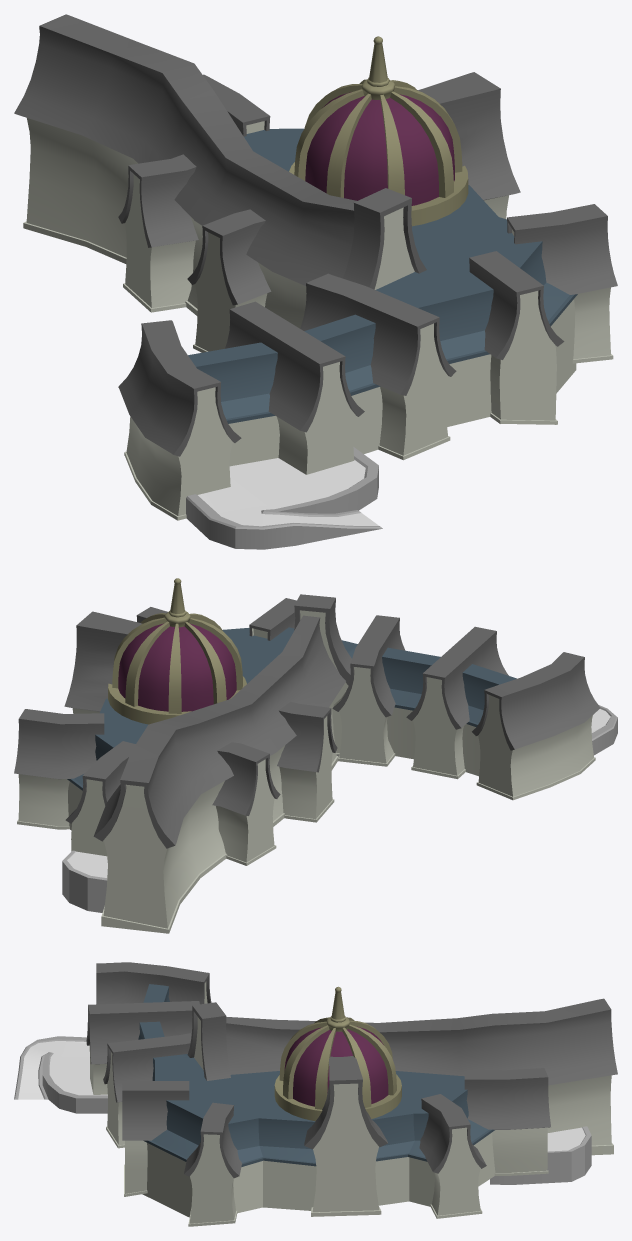
Rendered from p-bld-disco.glb.
3 renders of one model, top to bottom at view 1: azimuth 30°, elevation 25°; view 2: azimuth 150°, elevation 25°; view 3: azimuth 270°, elevation 25°, orthographic. The views are drawn at different scales.
Visible parts, largest first — view 1: A Frame-col.008, GLUE-col.005, Sphere-col, A Frame-col.014, balconyL-col, A Frame-col.012, A Frame-col.013, A Frame-col.003, A Frame-col.010, A Frame-col, A Frame-col.009, A Frame-col.002 (+2 smaller); view 2: A Frame-col.008, A Frame-col.014, Sphere-col, GLUE-col.005, A Frame-col.001, A Frame-col.013, A Frame-col.012, A Frame-col.010, A Frame-col.009, A Frame-col.002, A Frame-col.005, A Frame-col.004 (+3 smaller); view 3: GLUE-col.005, A Frame-col.008, Sphere-col, A Frame-col.002, A Frame-col.005, A Frame-col.001, balconyL-col, A Frame-col, A Frame-col.013, A Frame-col.003, A Frame-col.014, A Frame-col.012 (+2 smaller).
Part boxes in pixels (bbox=[...]): A Frame-col.008: bbox=[14, 14, 356, 328]; GLUE-col.005: bbox=[188, 128, 577, 466]; Sphere-col: bbox=[289, 36, 468, 226]; A Frame-col.014: bbox=[118, 320, 241, 520]; balconyL-col: bbox=[186, 447, 382, 549]; A Frame-col.012: bbox=[300, 273, 456, 460]; A Frame-col.013: bbox=[225, 301, 364, 474]; A Frame-col.003: bbox=[469, 251, 564, 424]; A Frame-col.010: bbox=[118, 154, 198, 312]; A Frame-col: bbox=[507, 204, 617, 363]; A Frame-col.009: bbox=[187, 209, 271, 352]; A Frame-col.002: bbox=[418, 72, 520, 218]; A Frame-col.008: bbox=[93, 615, 345, 933]; A Frame-col.014: bbox=[472, 652, 600, 800]; Sphere-col: bbox=[108, 578, 246, 724]; GLUE-col.005: bbox=[67, 627, 516, 830]; A Frame-col.001: bbox=[14, 709, 104, 829]; A Frame-col.013: bbox=[406, 626, 508, 779]; A Frame-col.012: bbox=[332, 615, 405, 766]; A Frame-col.010: bbox=[212, 742, 280, 865]; A Frame-col.009: bbox=[277, 701, 337, 822]; A Frame-col.002: bbox=[64, 611, 142, 713]; A Frame-col.005: bbox=[65, 741, 135, 856]; A Frame-col.004: bbox=[294, 594, 351, 755]; GLUE-col.005: bbox=[138, 984, 495, 1217]; A Frame-col.008: bbox=[226, 998, 617, 1155]; Sphere-col: bbox=[274, 986, 401, 1121]; A Frame-col.002: bbox=[304, 1056, 387, 1216]; A Frame-col.005: bbox=[464, 1068, 550, 1175]; A Frame-col.001: bbox=[419, 1094, 486, 1218]; balconyL-col: bbox=[14, 1036, 107, 1113]; A Frame-col: bbox=[184, 1102, 242, 1226]; A Frame-col.013: bbox=[86, 1001, 199, 1094]; A Frame-col.003: bbox=[122, 1081, 189, 1196]; A Frame-col.014: bbox=[96, 962, 211, 1004]; A Frame-col.012: bbox=[103, 1033, 191, 1148].
Bounding box in the file's own units: 75.34 × 40.61 × 108.
